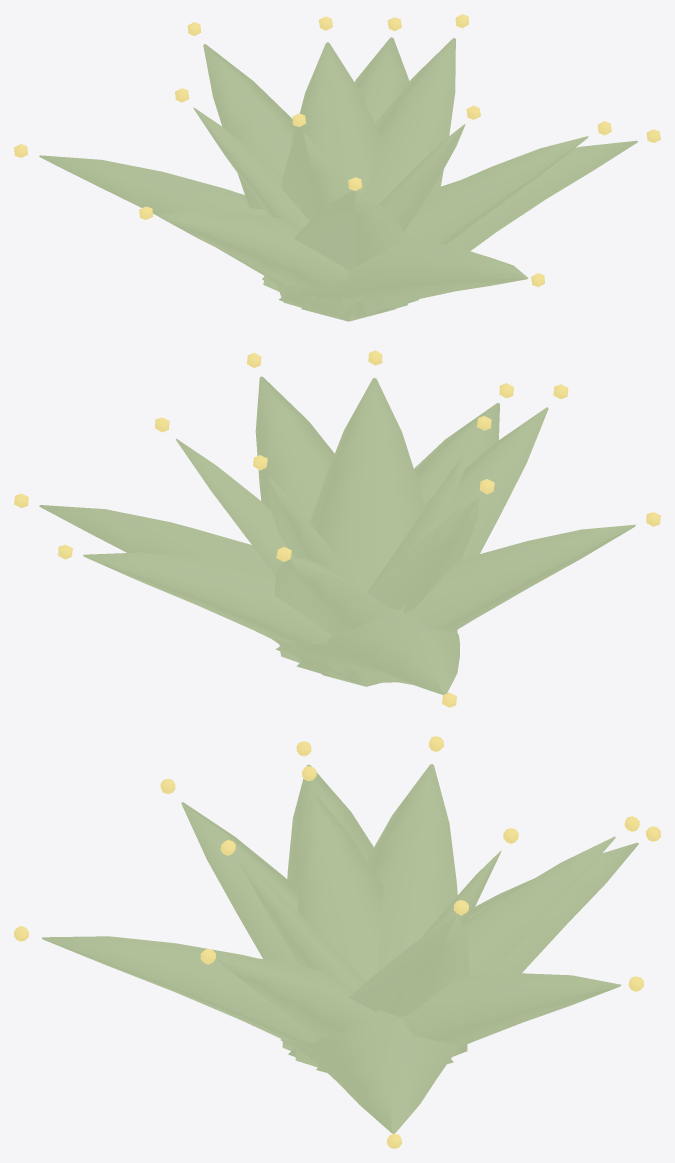
Rendered from Blender_Agave_2.glb.
The picture shows the model from 3 angles, top to bottom: view 1: azimuth 30°, elevation 25°; view 2: azimuth 150°, elevation 25°; view 3: azimuth 270°, elevation 25°; orthographic projection. The views are drawn at different scales.
Parts seen in each view (by area): view 1: Blender_Agave_2; view 2: Blender_Agave_2; view 3: Blender_Agave_2.
Part boxes in pixels (left/top/right/bottom): Blender_Agave_2: left=14, top=14, right=660, bottom=321; Blender_Agave_2: left=14, top=350, right=660, bottom=707; Blender_Agave_2: left=14, top=736, right=660, bottom=1148.
Size of the model in its own units: 1.09 by 0.4662 by 0.9808.
